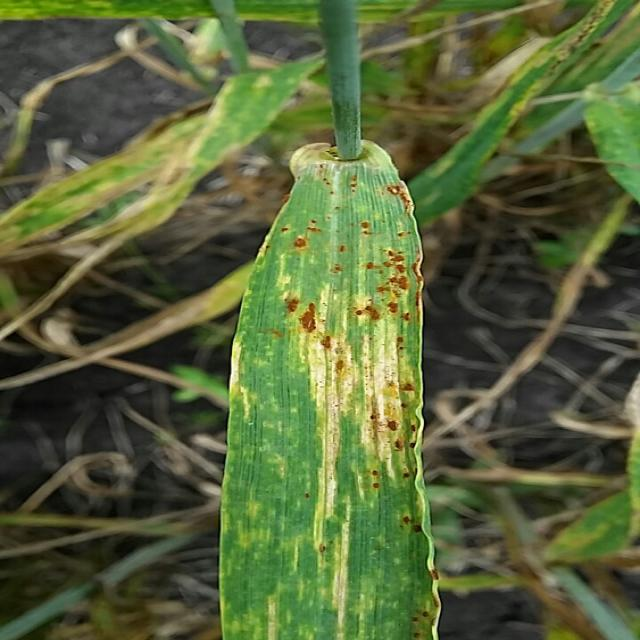wheat-stemrust: (216, 140, 440, 640)
